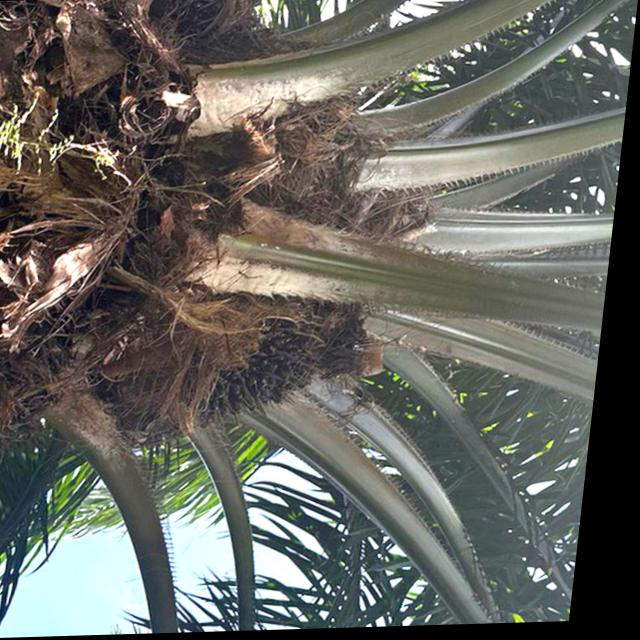almost: (188, 288, 347, 429)
